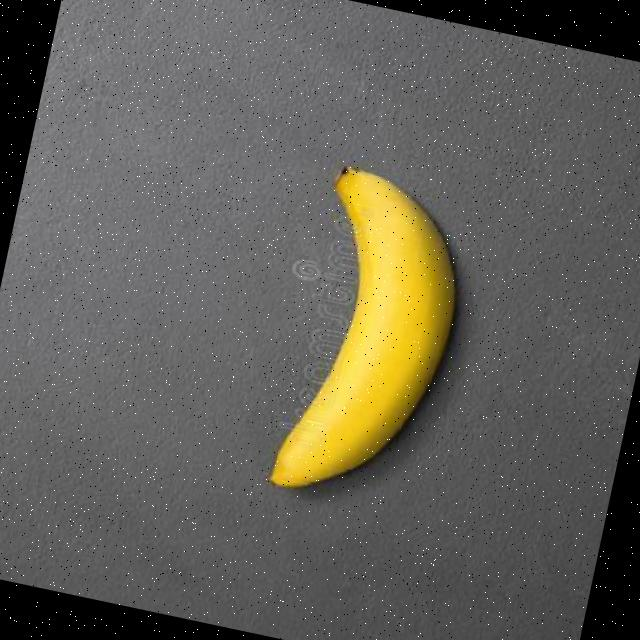banana: (270, 164, 458, 489)
